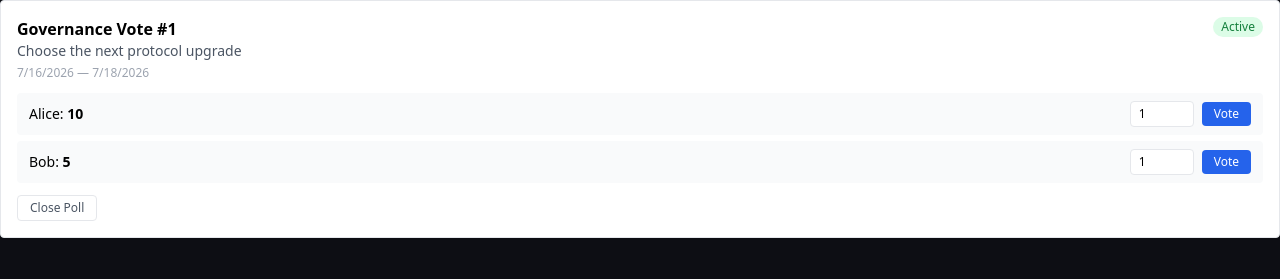
Test: PollCard › displays error message on vote failure
Click the button "Vote" in the row of "Alice": (1226,114) [1202,102,1251,126]
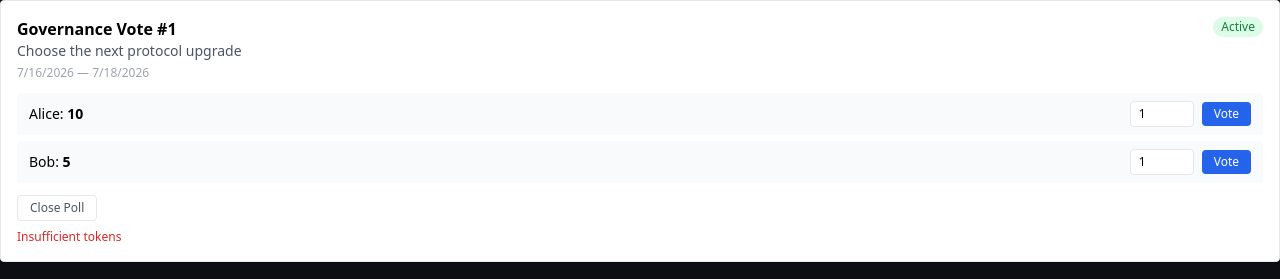
Expected: the text "Insufficient tokens" is shown, [17,228,121,245]
